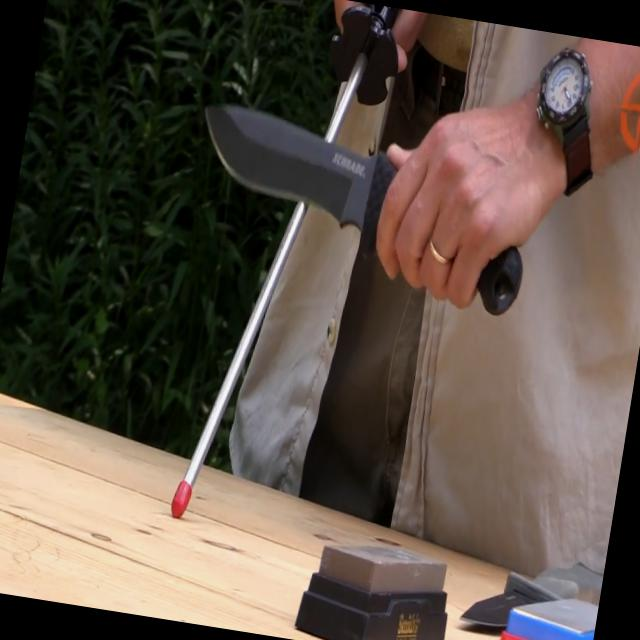knife: (169, 85, 552, 327)
